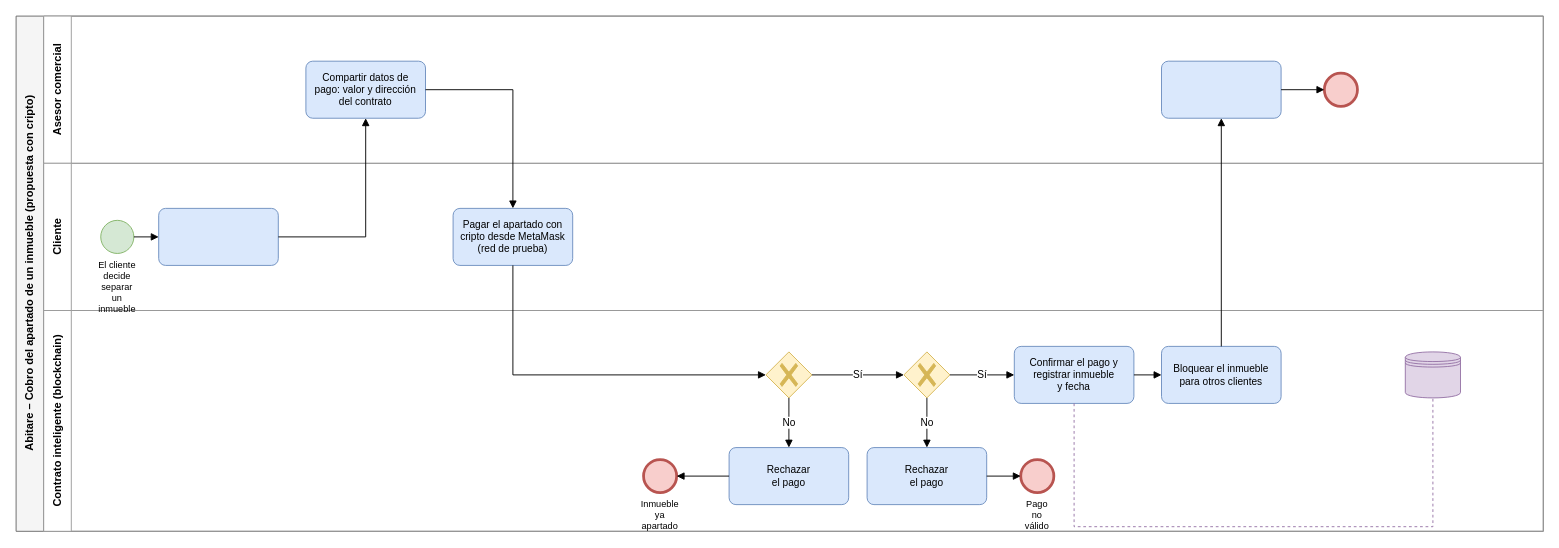
Image size: 1559x548. Some labels were removed from this diagram. The box of each missing label's shape, as (x1, y1, x2, y2) in pixels:
Apartado confirmado: (1323, 72, 1357, 106)
Registro en blockchain: (1404, 351, 1460, 398)
Solicitar el apartado del inmueble: (158, 207, 278, 265)
Ver la confirmación del pago: (1161, 60, 1281, 118)
¿Inmueble disponible?: (765, 351, 812, 398)
¿Pago válido?: (903, 351, 950, 398)
